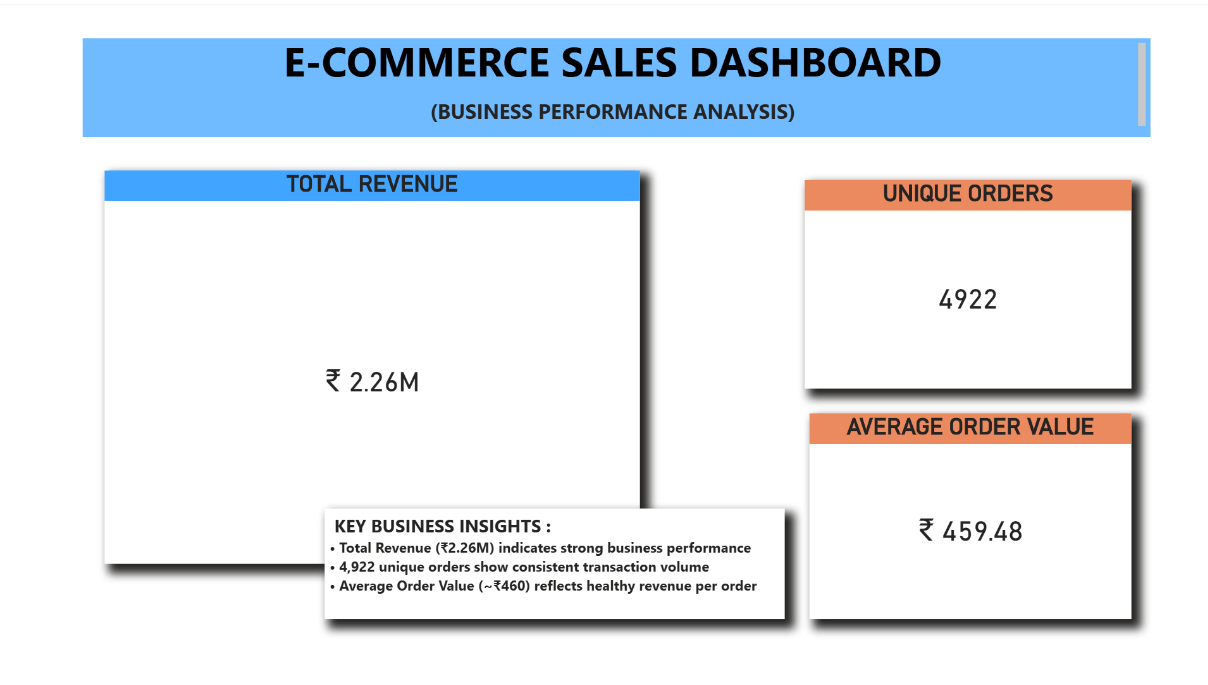

The page's visual inventory and layout, read from the dashboard file:
{"tool":"powerbi","page":{"name":"Page 1","canvas":[1280,720],"ordinal":0},"visuals":[{"type":"card","title":"TOTAL REVENUE ","fields":{"Values":["Sum(train.Sales)"]},"box":[111.3,174.9,561.3,413.3],"z":0},{"type":"card","title":"UNIQUE ORDERS ","fields":{"Values":["Count(train.Order ID)"]},"box":[846.2,184.6,342.4,218.9],"z":1000},{"type":"textbox","box":[87.8,35.7,1121.1,104.3],"z":2000},{"type":"card","title":"AVERAGE ORDER VALUE ","fields":{"Values":["train.AOV"]},"box":[851.1,430.4,337.5,215.2],"z":3000},{"type":"textbox","box":[341.7,529.7,483,116.6],"z":4000}]}

Visuals, with their boxes in screenshot pixels (x1, y1, x2, y2), scaled from the page's 1280x720 canvas onto the 1208x685 screenshot:
"TOTAL REVENUE " card: (105, 166, 635, 560)
"UNIQUE ORDERS " card: (799, 176, 1122, 384)
textbox: (83, 34, 1141, 133)
"AVERAGE ORDER VALUE " card: (803, 409, 1122, 614)
textbox: (322, 504, 778, 615)
